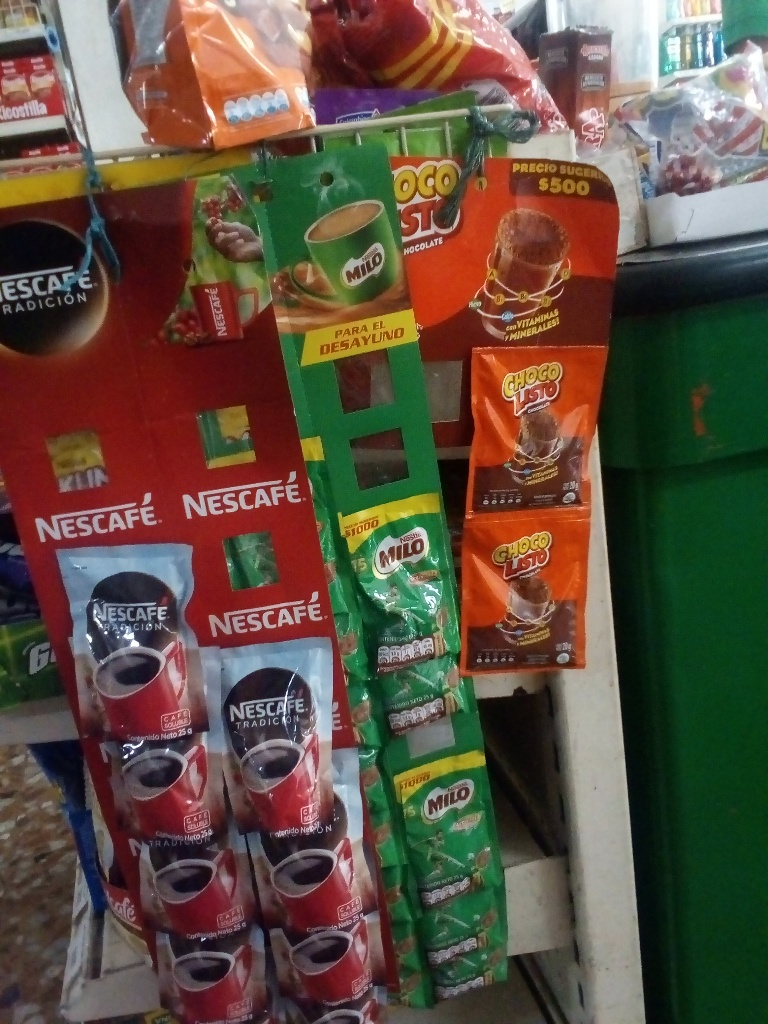COL0170103SOB02000: (469, 343, 603, 511)
